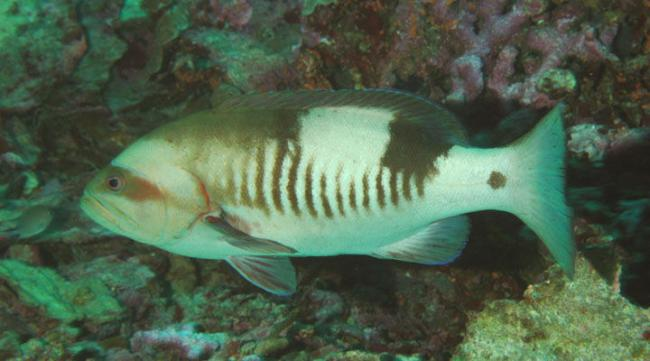fish: (78, 87, 579, 296)
